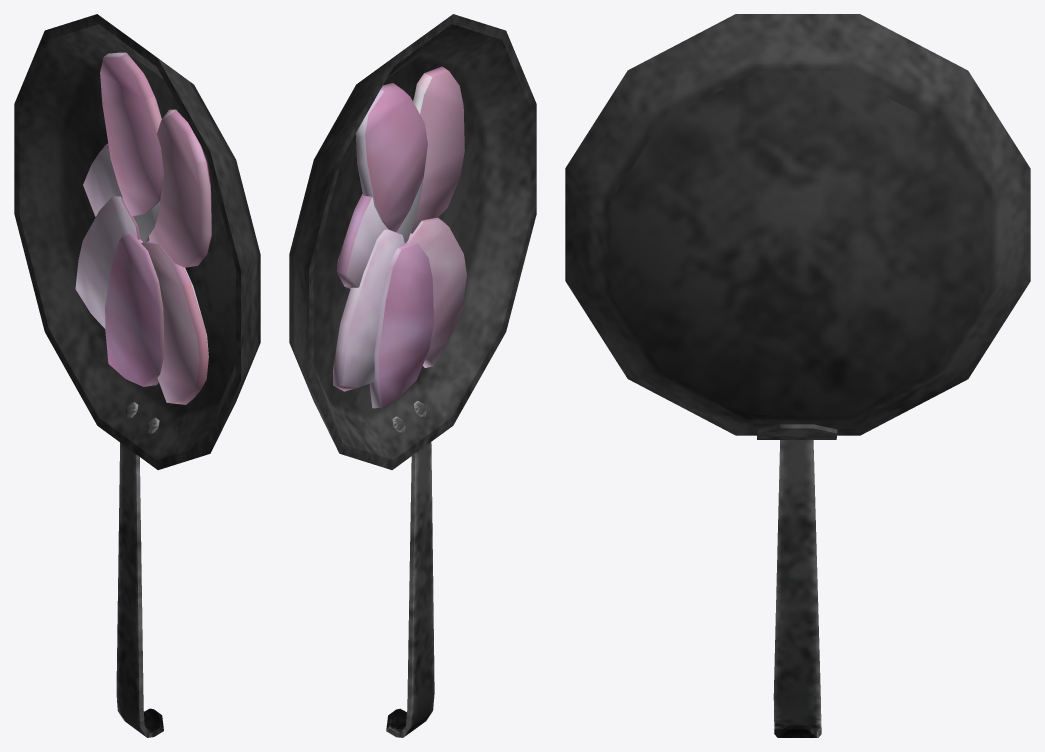
File: AL_FajitasForged_Static.fbx
The picture shows the model from 3 angles, left to right: view 1: azimuth 30°, elevation 25°; view 2: azimuth 150°, elevation 25°; view 3: azimuth 270°, elevation 25°; orthographic projection. The views are drawn at different scales.
Parts seen in each view (by area): view 1: Circle.001; view 2: Circle.001; view 3: Circle.001.
Part boxes in pixels (x1,y1,x2,y2): Circle.001: (14, 14, 260, 737); Circle.001: (289, 14, 536, 737); Circle.001: (565, 14, 1030, 737).
Bounding box in the file's own units: 0.4323 × 0.7308 × 0.0469.
